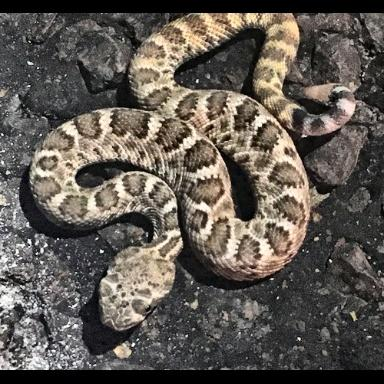snake: (18, 13, 351, 357)
